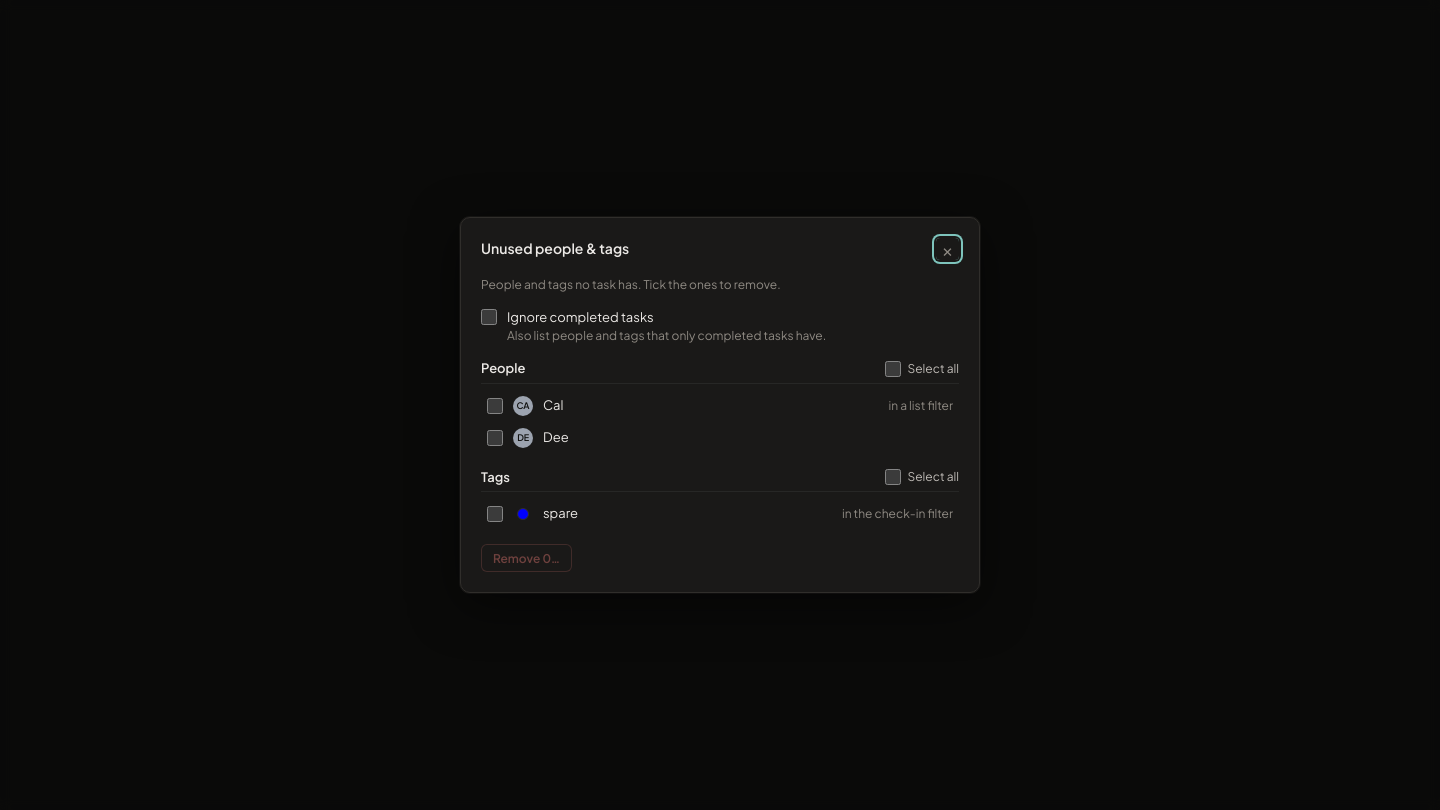
Scenario: UnusedEntitiesDialog › Select all ticks every row of its group, filter-named ones included, and clears them again
The width and height of the screenshot is (1440, 810).
Step 1. Click the checkbox labelled "DE Dee" → (495, 438), box [487, 430, 503, 446]
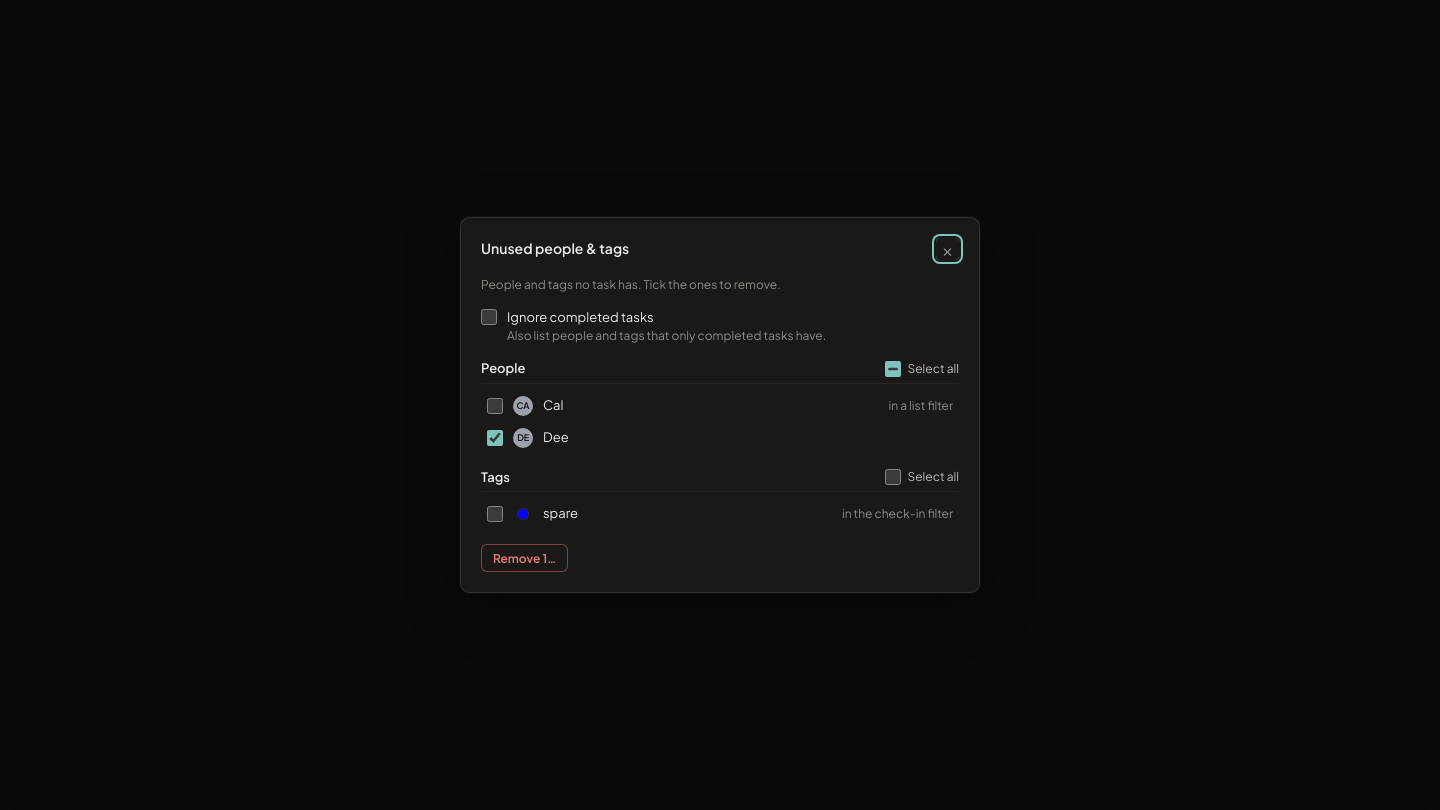
Step 2. Click the checkbox named "Select all people" → (894, 369), box [886, 361, 902, 377]
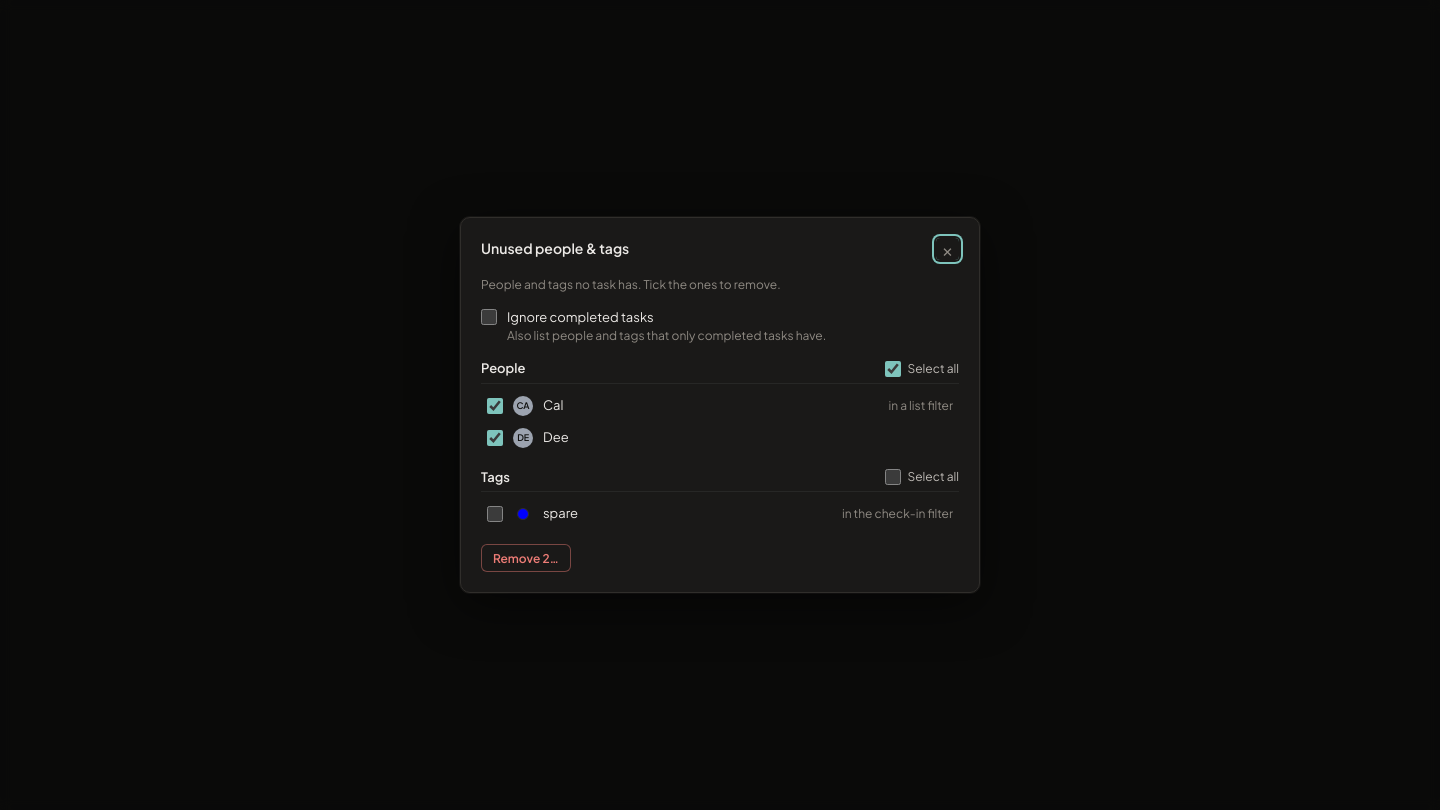
Expected: the checkbox labelled "DE Dee" is checked, [487, 430, 503, 446]
Expected: the checkbox labelled "CA Cal in a list filter" is checked, [487, 398, 503, 414]
Expected: the button "Remove 2…" is shown, [481, 544, 571, 572]
Step 3. Click the checkbox named "Select all people" → (894, 369), box [886, 361, 902, 377]
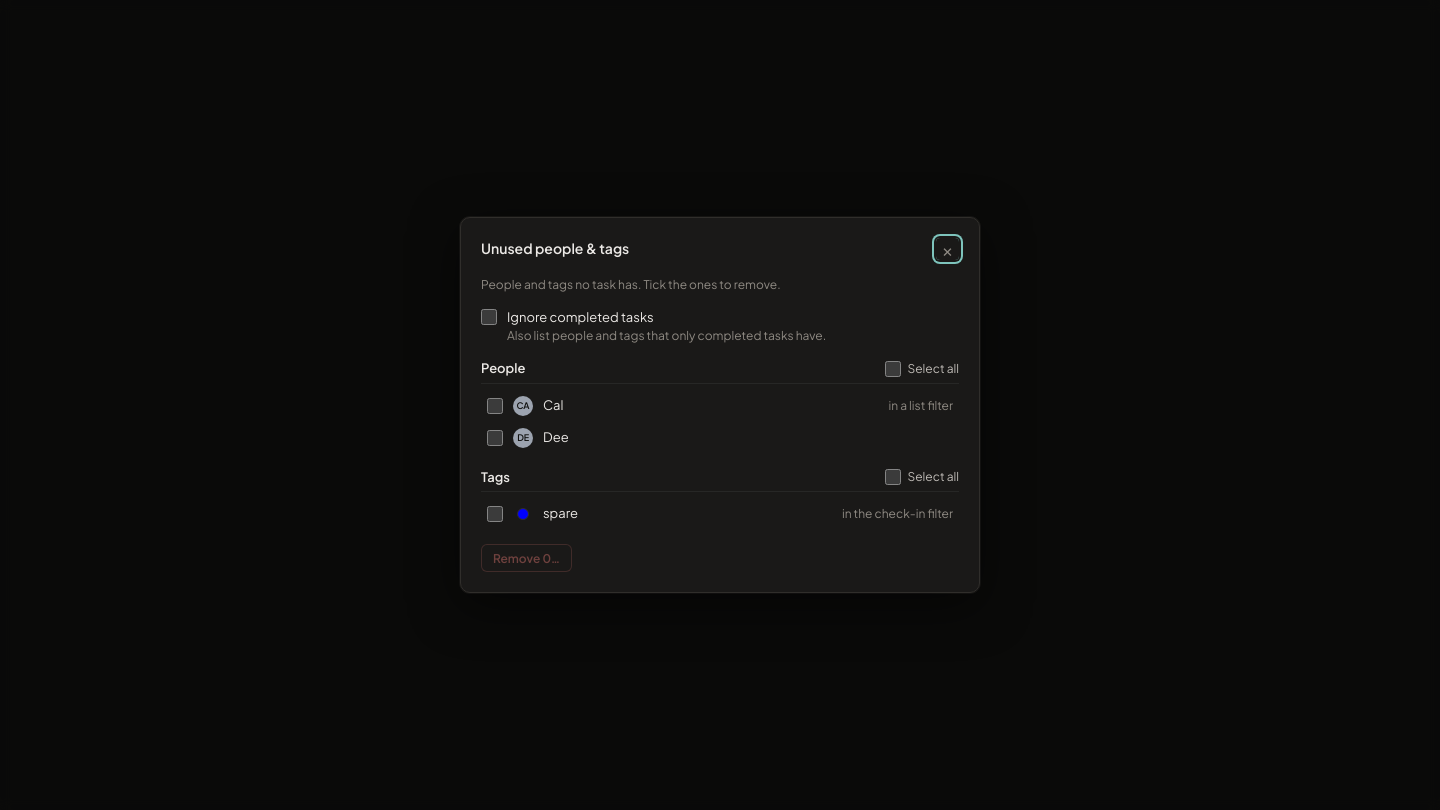
Expected: the button "Remove 0…" is shown, [481, 544, 572, 572]
